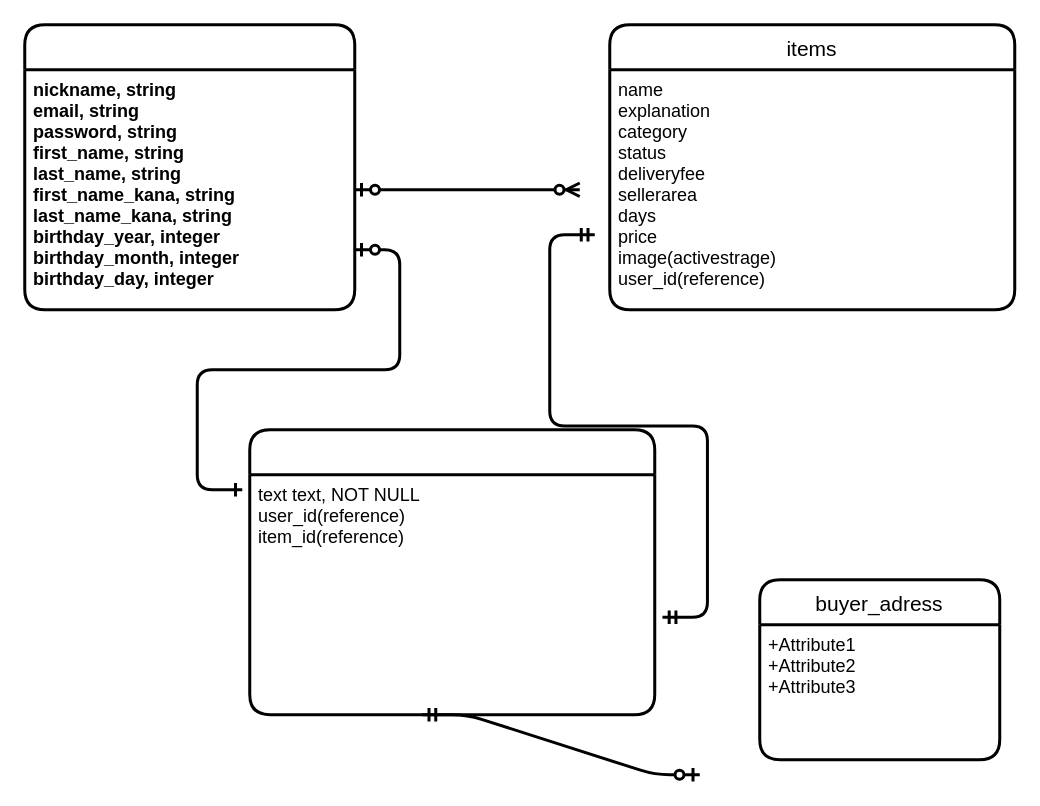
Image size: 1040x806. Some labels were removed from this diagram. Here are the shapes that lost their labels. From the top down, the box of each, then its label:
(22, 22, 356, 310): users
(248, 428, 656, 716): buyer_info
